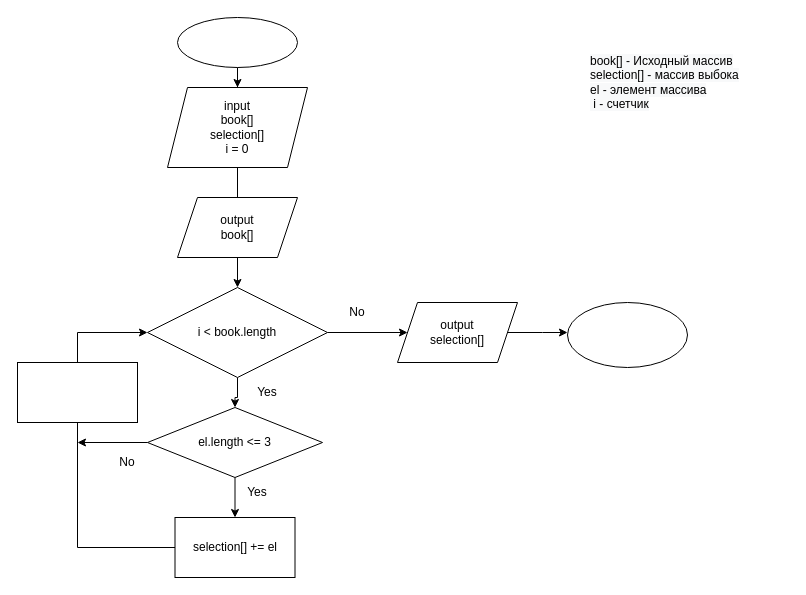
This 806x595 diagram has some shape labels left out. The centre of each missing label's shape, as x and y in pixels:
"End" belongs at [627,335].
"i++" belongs at [77,392].
"Start" belongs at [237,42].
